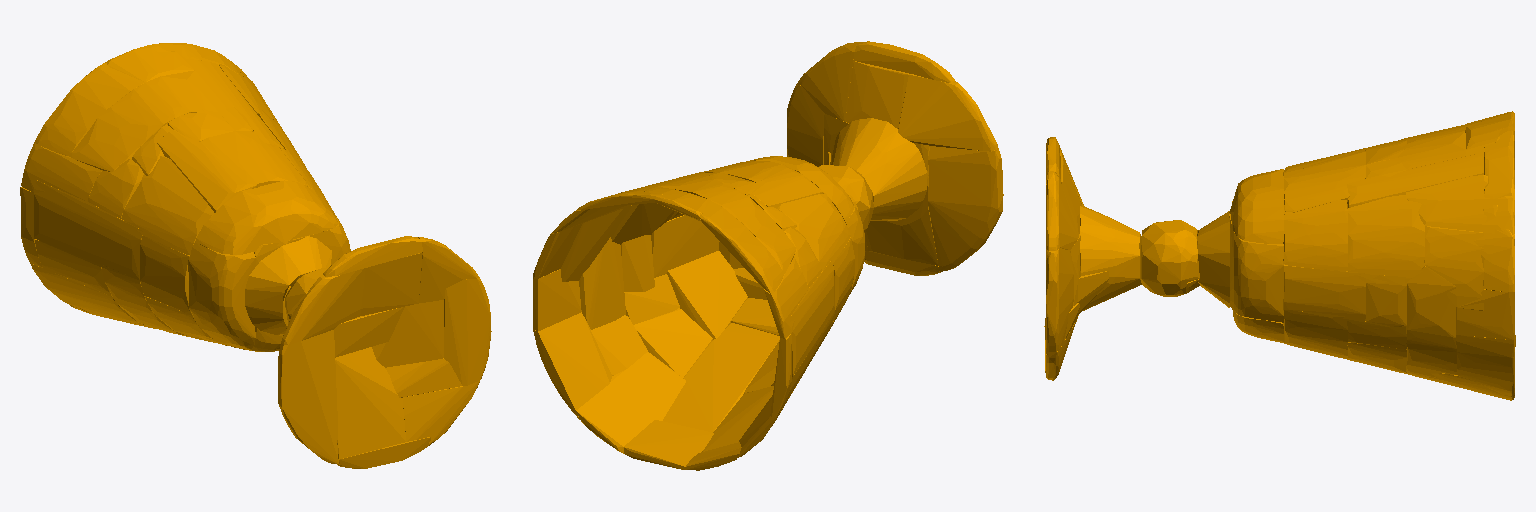
robot.urdf — glass-new:
<?xml version="1.0" ?>
<robot name="glass-new">
  <link name="baseLink">
    <contact>
      <lateral_friction value="1.0"/>
      <inertia_scaling value="3.0"/>
    </contact>
    <inertial>
      <origin rpy="0 0 0" xyz="0.000 0.000 0.000"/>
       <mass value=".1"/>
       <inertia ixx="1" ixy="0.0" ixz="0.0" iyy="1" iyz="0.0" izz="1"/>
    </inertial>
    <visual>
      <origin rpy="0 0 0" xyz="0 0 0"/>
      <geometry>
        <mesh filename="glass/glass-new_2.obj" scale="1.0 1.0 1.0"/>
      </geometry>
    </visual>
    <collision>
      <origin rpy="0 0 0" xyz="0 0 0"/>
      <geometry>
        <mesh filename="../collision/glass/glass-new_2.obj" scale="1.0 1.0 1.0"/>
      </geometry>
    </collision>
  </link>
</robot>
        

--- Facts derived from the render (not from the file) ---
The picture shows the robot from 3 angles, left to right: view 1: azimuth 30°, elevation 25°; view 2: azimuth 150°, elevation 25°; view 3: azimuth 270°, elevation 25°; orthographic projection.
Robot: glass-new — 1 links, 0 joints (none); root link baseLink; default pose: all joints at 0.
Links seen in each view (by area): view 1: baseLink; view 2: baseLink; view 3: baseLink.
Boxes of the visible links, x1,y1,x2,y2 form: baseLink: (20, 43, 491, 468); baseLink: (533, 41, 1003, 470); baseLink: (1044, 111, 1515, 400).
Size in the robot's own frame: 0.0798 by 0.1327 by 0.0807 metres.
Meshes: 1 distinct files referenced, 1 mesh visuals loaded (1 OBJ).